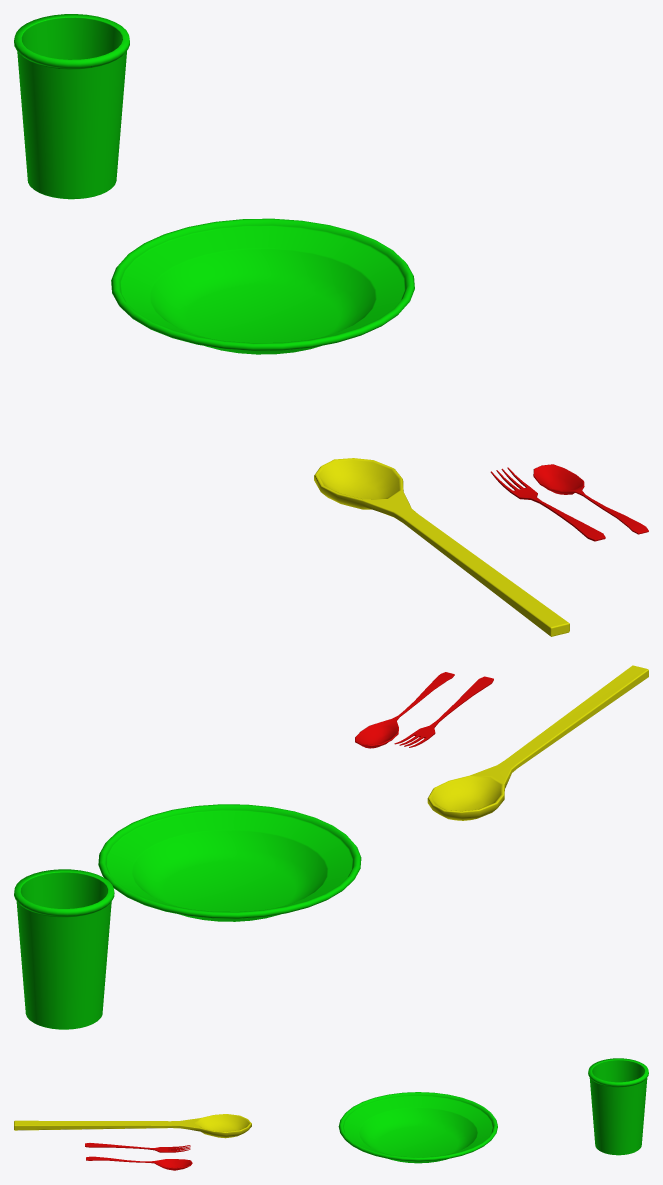
File: cutlery.fbx
The picture shows the model from 3 angles, top to bottom: view 1: azimuth 30°, elevation 25°; view 2: azimuth 150°, elevation 25°; view 3: azimuth 270°, elevation 25°; orthographic projection. The views are drawn at different scales.
Parts seen in each view (by area): view 1: Plates and cutlery; view 2: Plates and cutlery; view 3: Plates and cutlery.
Boxes of the visible parts, x1,y1,x2,y2 form: Plates and cutlery: [14, 14, 648, 636]; Plates and cutlery: [14, 665, 648, 1029]; Plates and cutlery: [14, 1058, 648, 1170].
Bounding box in the file's own units: 30.57 × 18.11 × 122.
